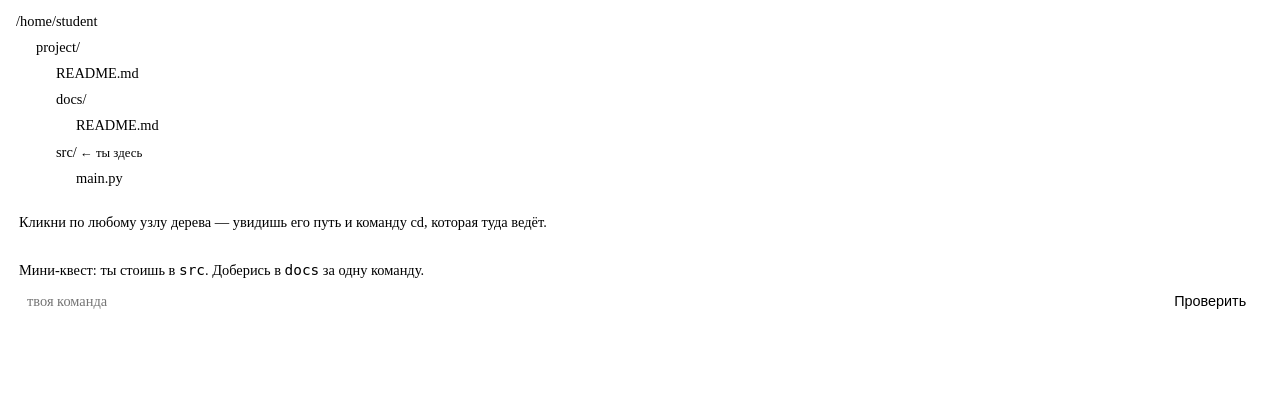
клик по каталогу: pwd, относительный и абсолютный cd, подсветка пути
What coordinates should you click on to do the following:
click the button "docs/"
I would click on:
 (71, 100)
Its box is [47,88,95,112].
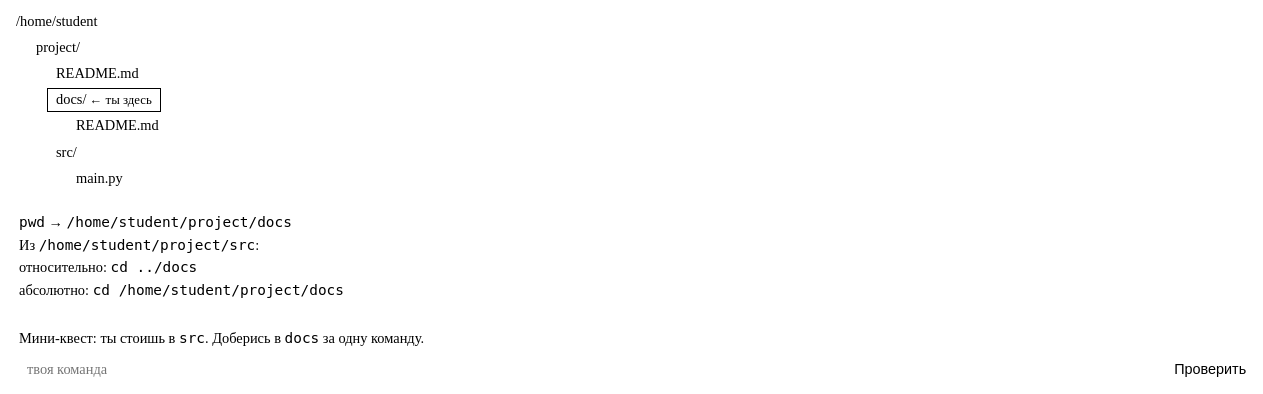
Result: the text "/home/student/project/docs" is shown at [67,214,292,230]
Result: the text "cd ../docs" is shown at [111,259,197,275]
Result: the text "cd /home/student/project/docs" is shown at [93,282,344,298]
